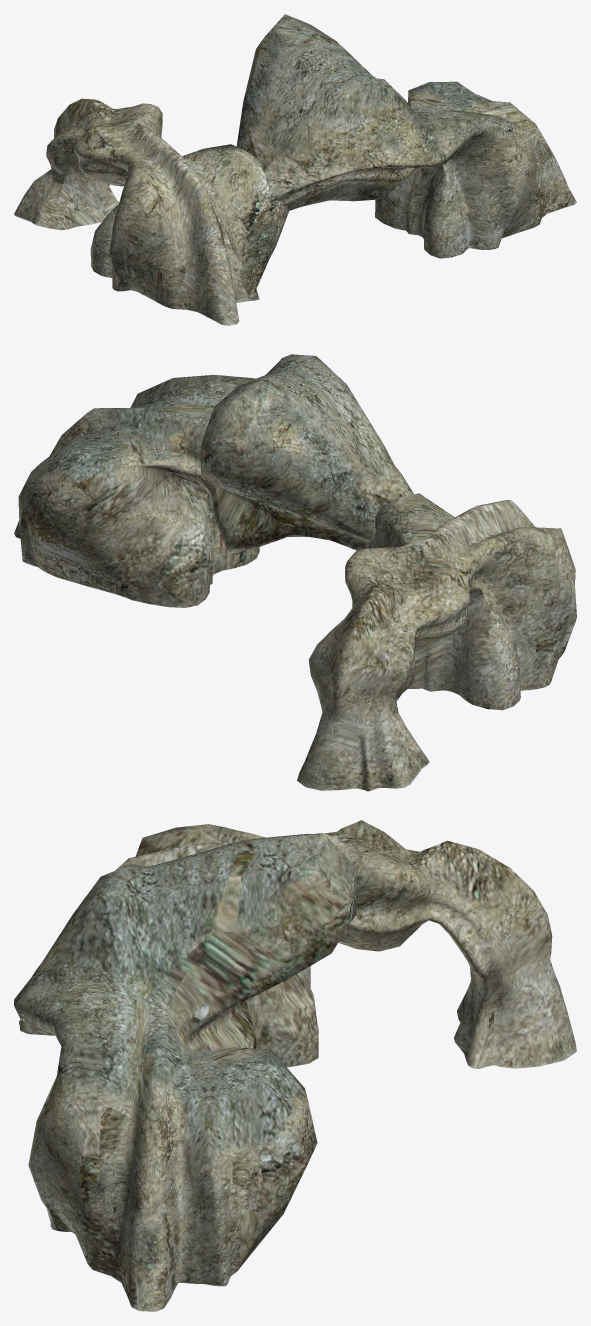
Rendered from weird_rock.obj.
3 views of the same model, one above another, from view 1: azimuth 30°, elevation 25°; view 2: azimuth 150°, elevation 25°; view 3: azimuth 270°, elevation 25° (orthographic). The views are drawn at different scales.
Parts seen in each view (by area): view 1: Rock_1; view 2: Rock_1; view 3: Rock_1.
Boxes of the visible parts, bbox=[...] form: Rock_1: bbox=[14, 14, 576, 325]; Rock_1: bbox=[14, 354, 576, 791]; Rock_1: bbox=[14, 820, 576, 1311].
Bounding box in the file's own units: 1348 × 602 × 956.
